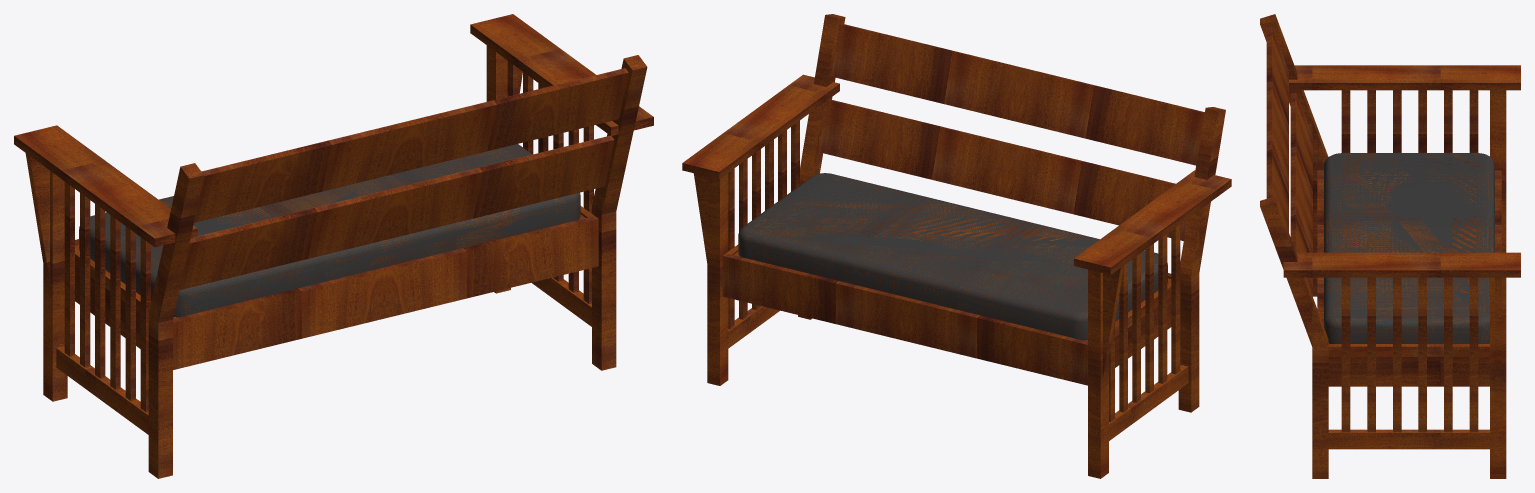
3 views of the same model, side by side, from view 1: azimuth 30°, elevation 25°; view 2: azimuth 150°, elevation 25°; view 3: azimuth 270°, elevation 25° (orthographic). The views are drawn at different scales.
Parts seen in each view (by area): view 1: mesh23_mesh23-geometry, mesh2_mesh2-geometry, mesh14_mesh14-geometry, mesh1_mesh1-geometry, mesh11_mesh11-geometry, mesh4_mesh4-geometry, mesh21_mesh21-geometry, mesh16_mesh16-geometry, mesh9_mesh9-geometry; view 2: mesh1_mesh1-geometry, mesh2_mesh2-geometry, mesh23_mesh23-geometry, mesh14_mesh14-geometry, mesh11_mesh11-geometry, mesh4_mesh4-geometry, mesh16_mesh16-geometry, mesh21_mesh21-geometry, mesh9_mesh9-geometry; view 3: mesh1_mesh1-geometry, mesh11_mesh11-geometry, mesh23_mesh23-geometry, mesh9_mesh9-geometry, mesh14_mesh14-geometry, mesh21_mesh21-geometry, mesh2_mesh2-geometry, mesh16_mesh16-geometry, mesh4_mesh4-geometry.
Part boxes in pixels (x1,y1,x2,y2): mesh23_mesh23-geometry: (14,125,203,478); mesh2_mesh2-geometry: (390,68,628,238); mesh14_mesh14-geometry: (179,120,414,290); mesh1_mesh1-geometry: (79,144,580,317); mesh11_mesh11-geometry: (470,14,653,370); mesh4_mesh4-geometry: (381,216,598,318); mesh21_mesh21-geometry: (64,182,150,411); mesh16_mesh16-geometry: (75,239,384,369); mesh9_mesh9-geometry: (507,61,593,303); mesh1_mesh1-geometry: (738,173,1167,340); mesh2_mesh2-geometry: (818,23,1025,196); mesh23_mesh23-geometry: (1074,107,1231,478); mesh14_mesh14-geometry: (1002,68,1204,240); mesh11_mesh11-geometry: (682,14,845,385); mesh4_mesh4-geometry: (722,253,909,341); mesh16_mesh16-geometry: (906,273,1171,385); mesh21_mesh21-geometry: (1109,224,1180,421); mesh9_mesh9-geometry: (728,120,799,329); mesh1_mesh1-geometry: (1324,153,1494,343); mesh11_mesh11-geometry: (1260,196,1520,478); mesh23_mesh23-geometry: (1260,14,1520,296); mesh9_mesh9-geometry: (1341,277,1478,432); mesh14_mesh14-geometry: (1266,27,1312,225); mesh21_mesh21-geometry: (1341,90,1478,152); mesh2_mesh2-geometry: (1266,115,1312,296); mesh16_mesh16-geometry: (1317,170,1501,252); mesh4_mesh4-geometry: (1317,277,1323,326).
Bounding box in the file's own units: 0.7705 × 0.4847 × 0.414.
